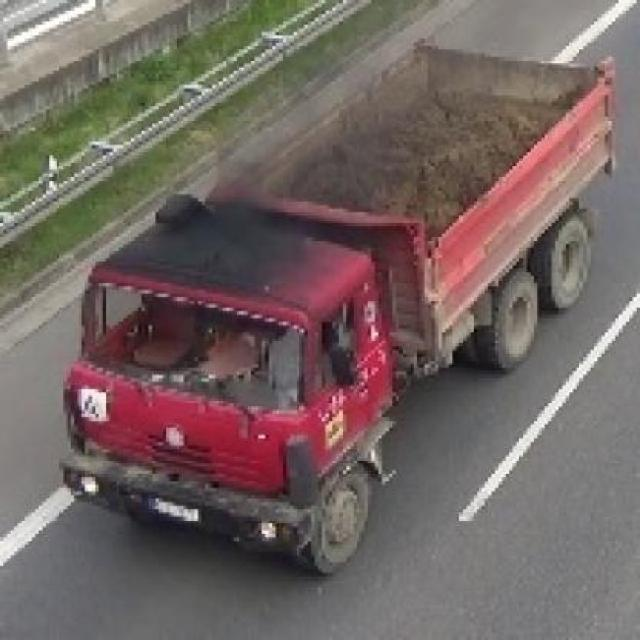truck: (65, 36, 623, 578)
